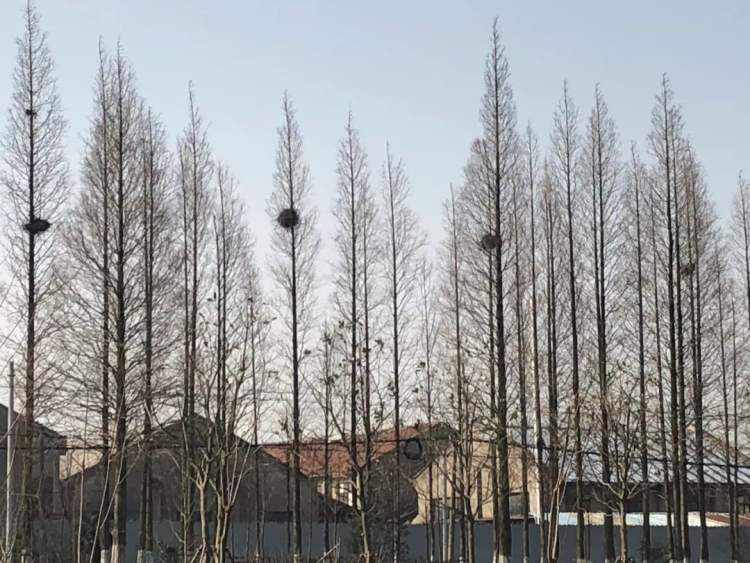bird-nest: (19, 213, 54, 238), (271, 206, 301, 231), (479, 233, 503, 255), (675, 261, 700, 280)
